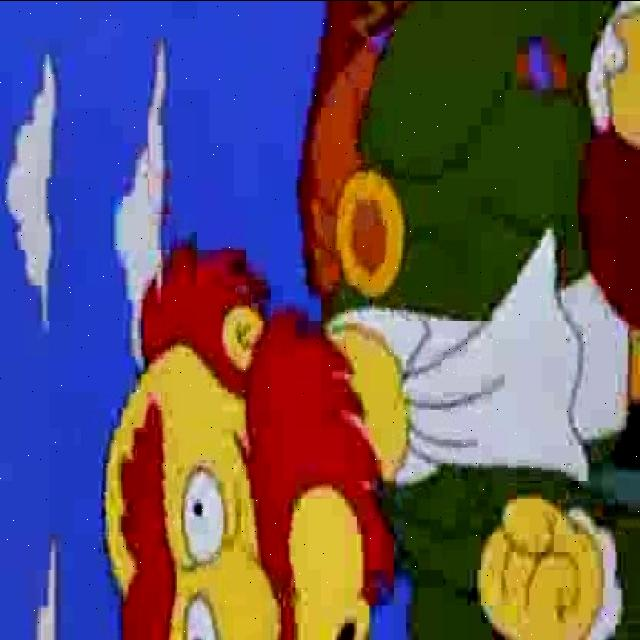Groundskeeper Willie: (100, 222, 406, 640)
